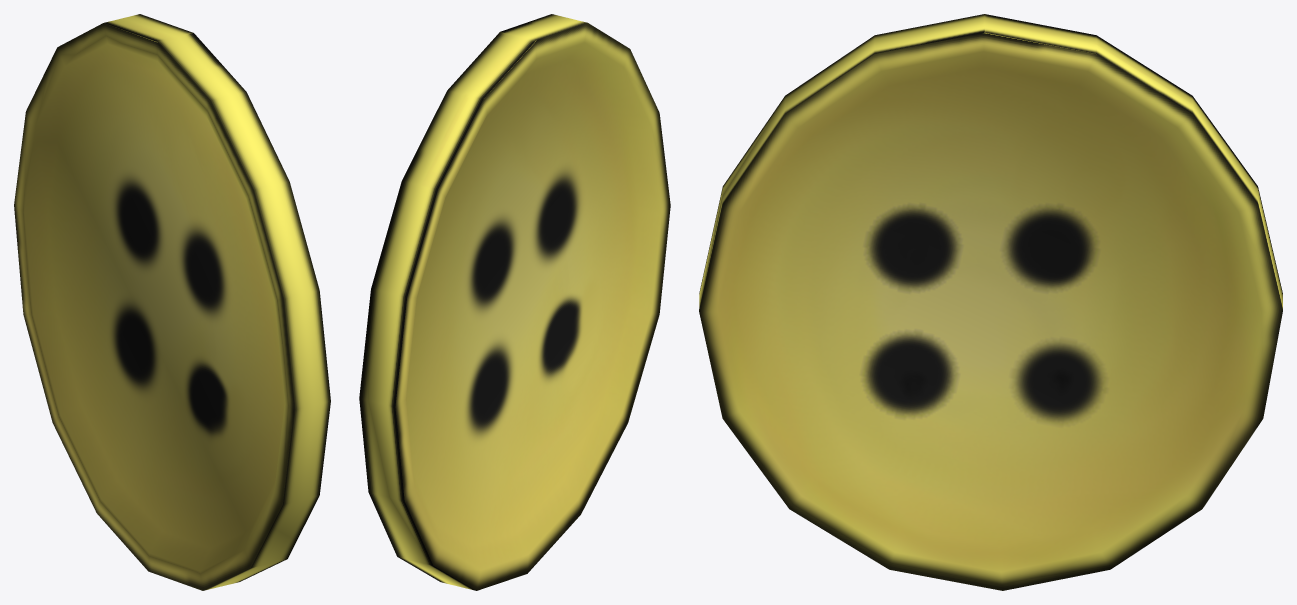
File: button.fbx
3 renders of one model, left to right at view 1: azimuth 30°, elevation 25°; view 2: azimuth 150°, elevation 25°; view 3: azimuth 270°, elevation 25°, orthographic. The views are drawn at different scales.
Parts seen in each view (by area): view 1: Button; view 2: Button; view 3: Button.
Boxes of the visible parts, left/top/right/bottom form: Button: left=14, top=14, right=330, bottom=590; Button: left=359, top=14, right=670, bottom=590; Button: left=699, top=14, right=1282, bottom=590.
Size of the model in its own units: 1.49 by 20.72 by 19.63.
